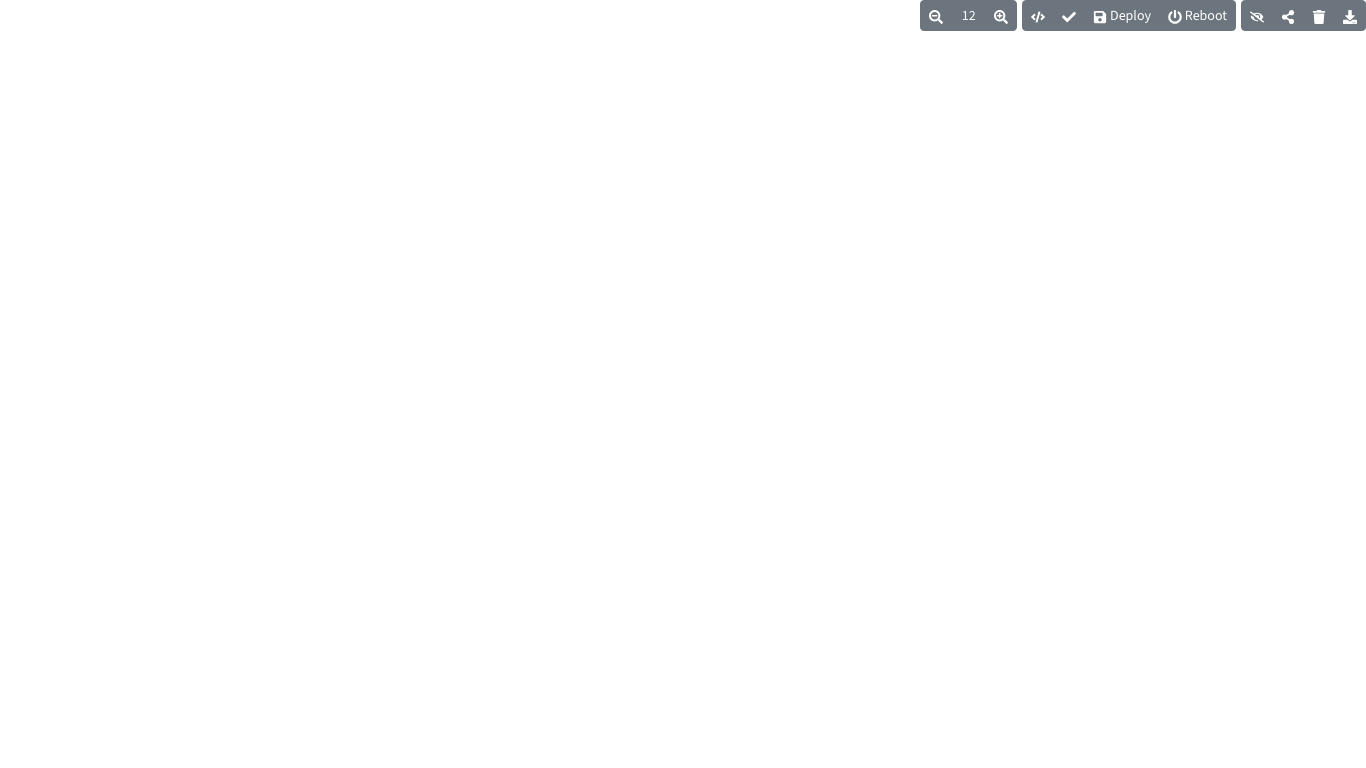
Test: EditorToolbar delete confirmation › deletes only after confirming
Click the button named "Delete app" at (1319, 16), box [1303,0,1335,31]
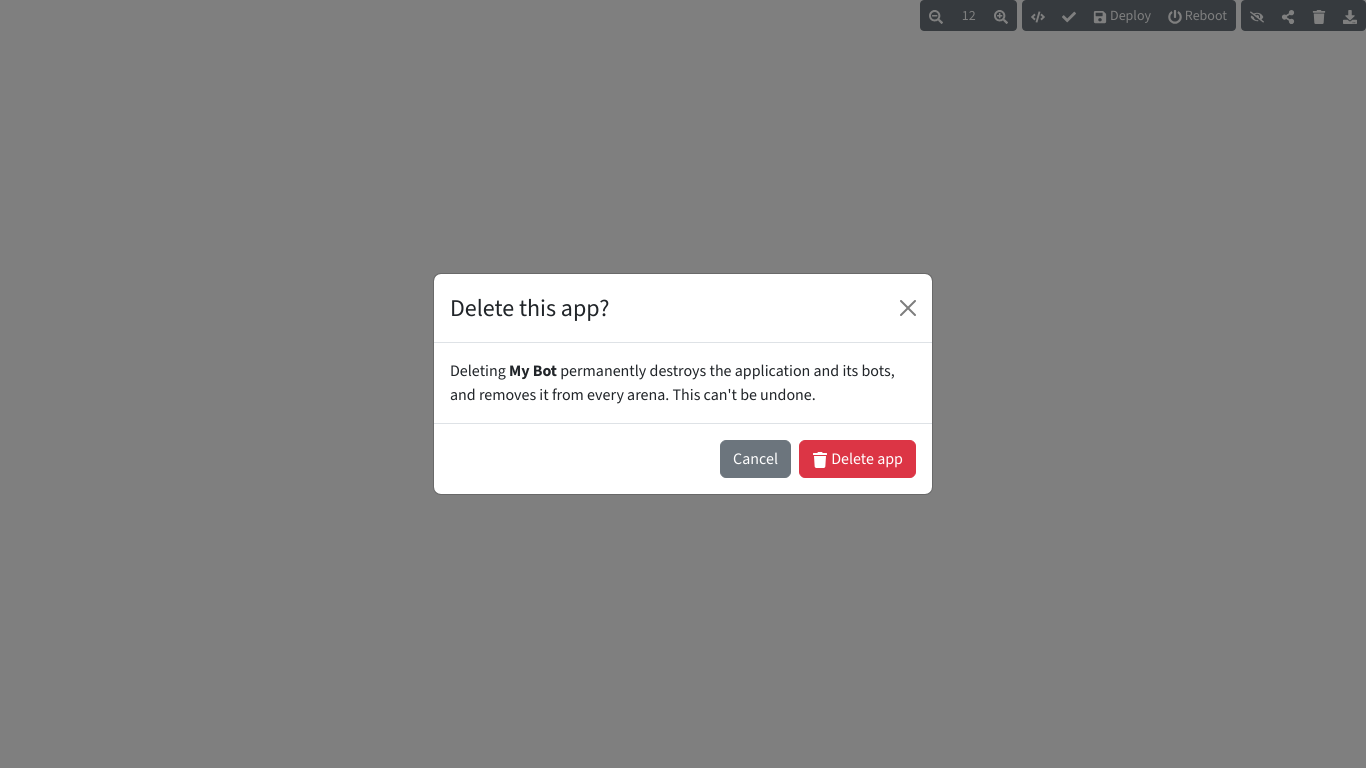
Click the button with aria-label "Confirm delete app" at (858, 459), box [799,440,916,478]
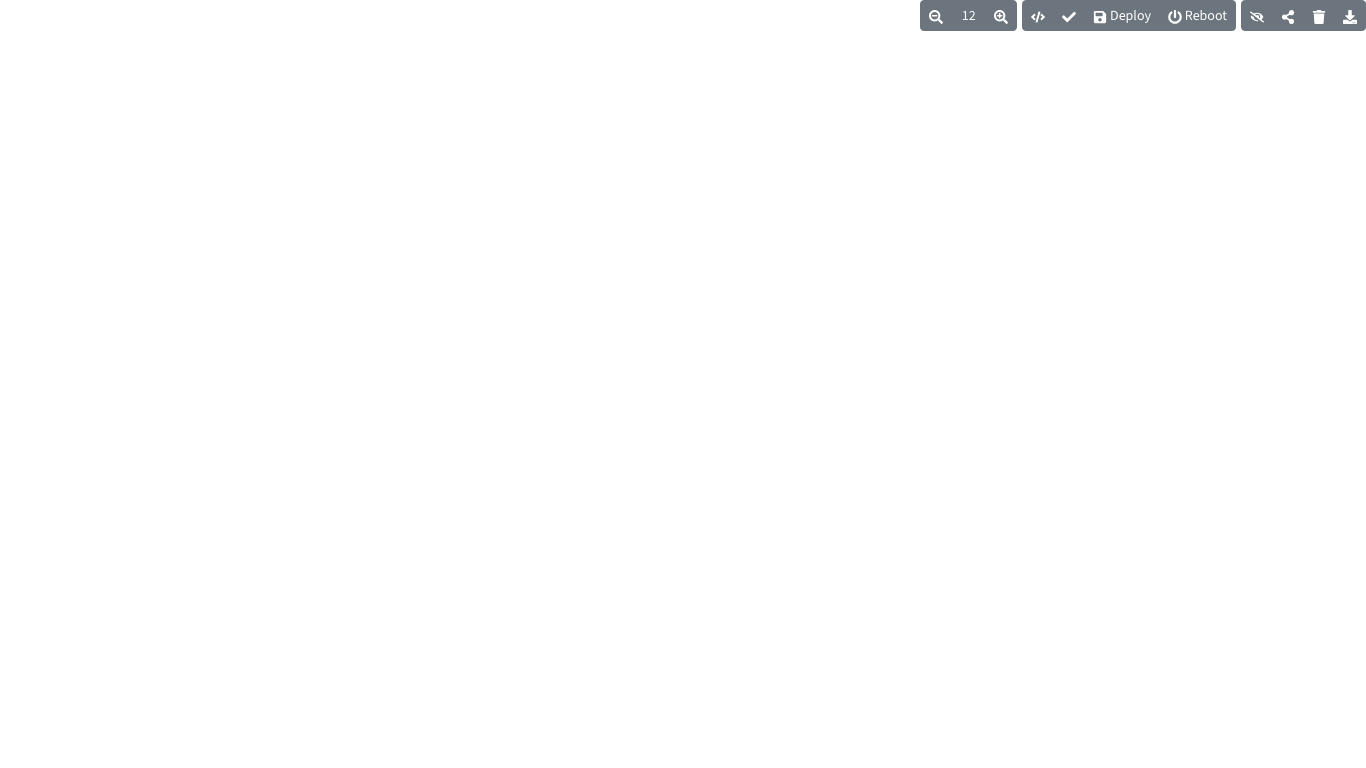
expect the text "Delete this app?" is gone: met
